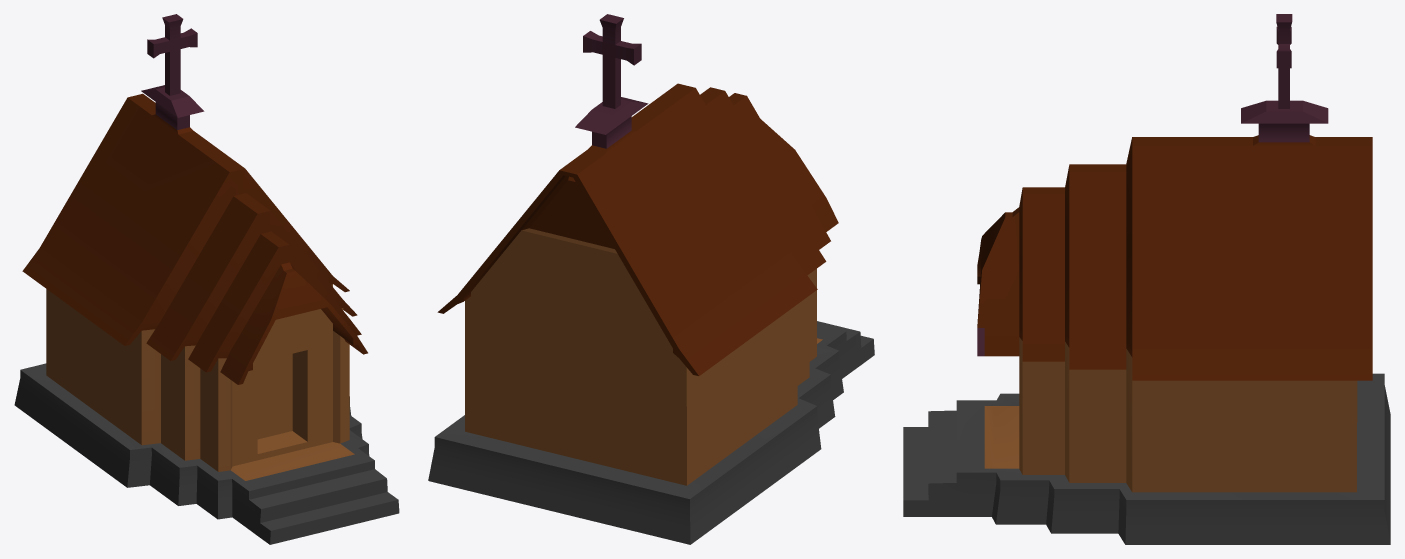
Rendered from Church_DP_2609.fbx.
The picture shows the model from 3 angles, left to right: view 1: azimuth 30°, elevation 25°; view 2: azimuth 150°, elevation 25°; view 3: azimuth 270°, elevation 25°; orthographic projection. The views are drawn at different scales.
Visible parts, largest first — view 1: Cube; view 2: Cube; view 3: Cube.
Boxes of the visible parts, <box> form: Cube: <box>14,14,399,544</box>; Cube: <box>428,14,874,544</box>; Cube: <box>903,14,1390,544</box>.
Bounding box in the file's own units: 1683 × 2794 × 2673.
